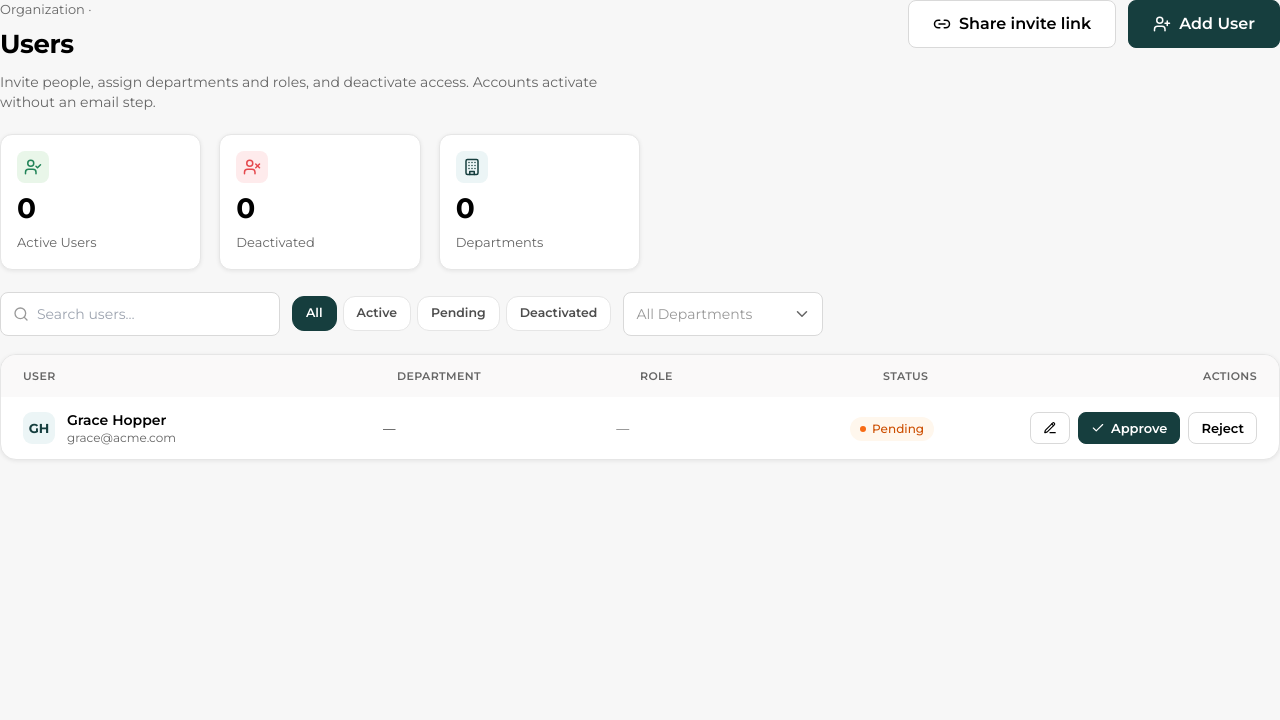
Test: Reject opens a confirm dialog; confirming posts /reject and reloads
Expected: the text "Grace Hopper" is shown, x1=67 y1=410 x2=176 y2=430
What coordinates should you click on to do the following:
click the button "Reject"
I would click on:
 (1223, 428)
Its box is x1=1188 y1=412 x2=1257 y2=444.
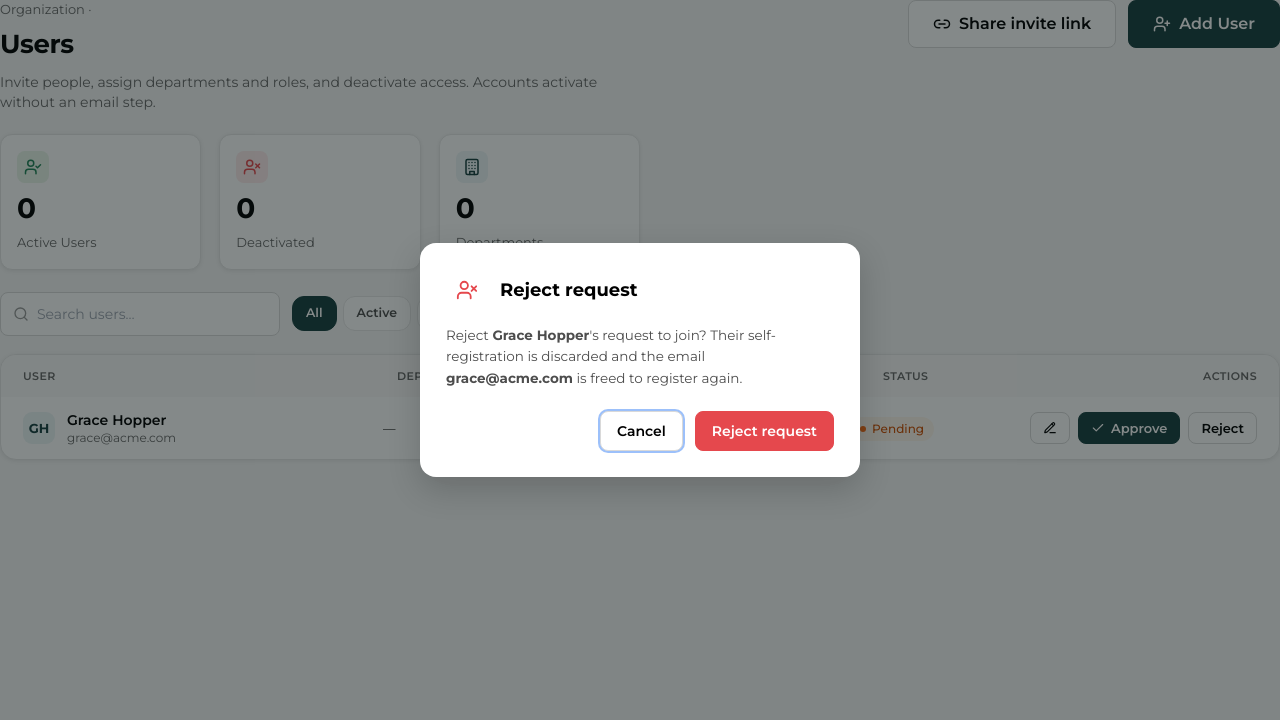
What coordinates should you click on to do the following:
click the button "Reject request"
I would click on:
 (764, 431)
Its box is x1=695 y1=411 x2=834 y2=451.
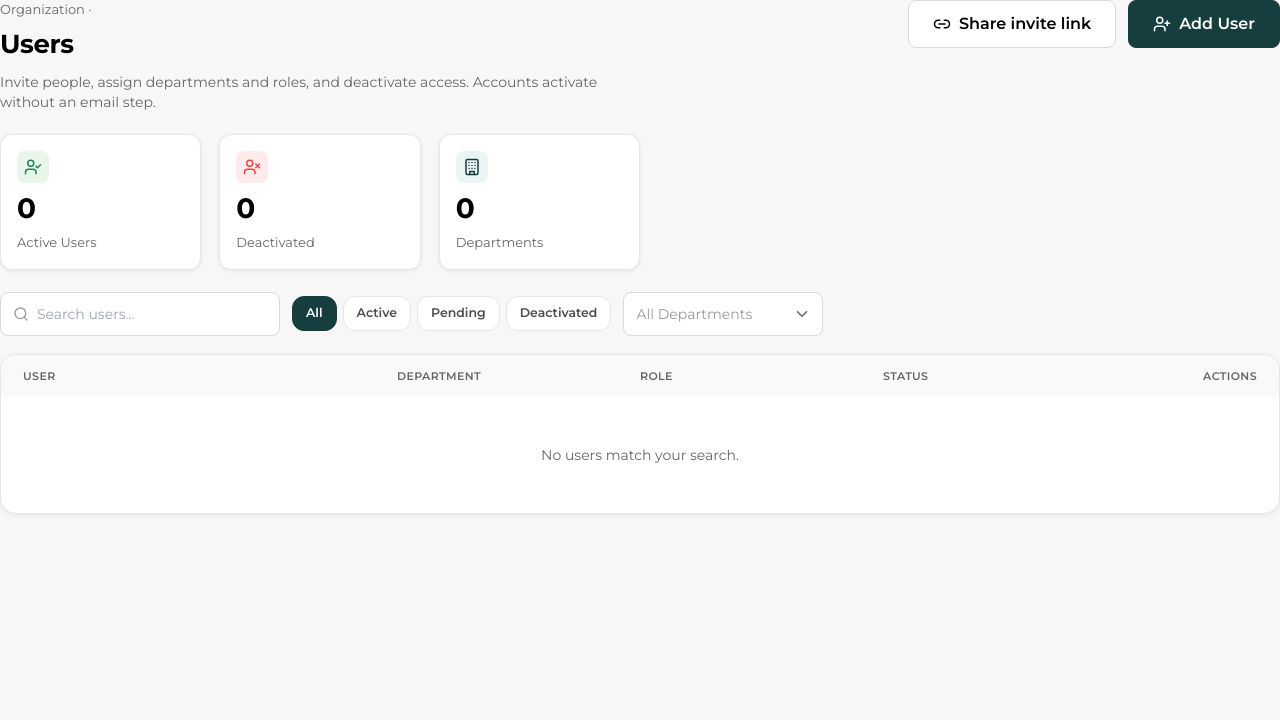
Now the text "No users match your search." is shown, box x1=541 y1=446 x2=739 y2=464
